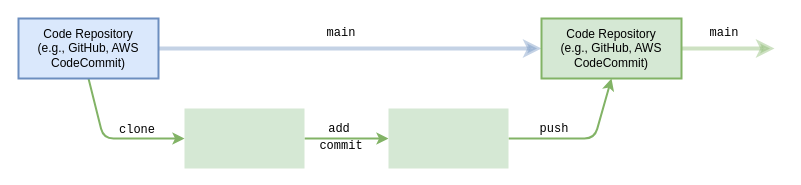
This 801x185 diagram has some shape labels left out. Each missing label, with the centre of its shape:
Local copy (folder): point 244,138
Modified local copy: point 448,138
